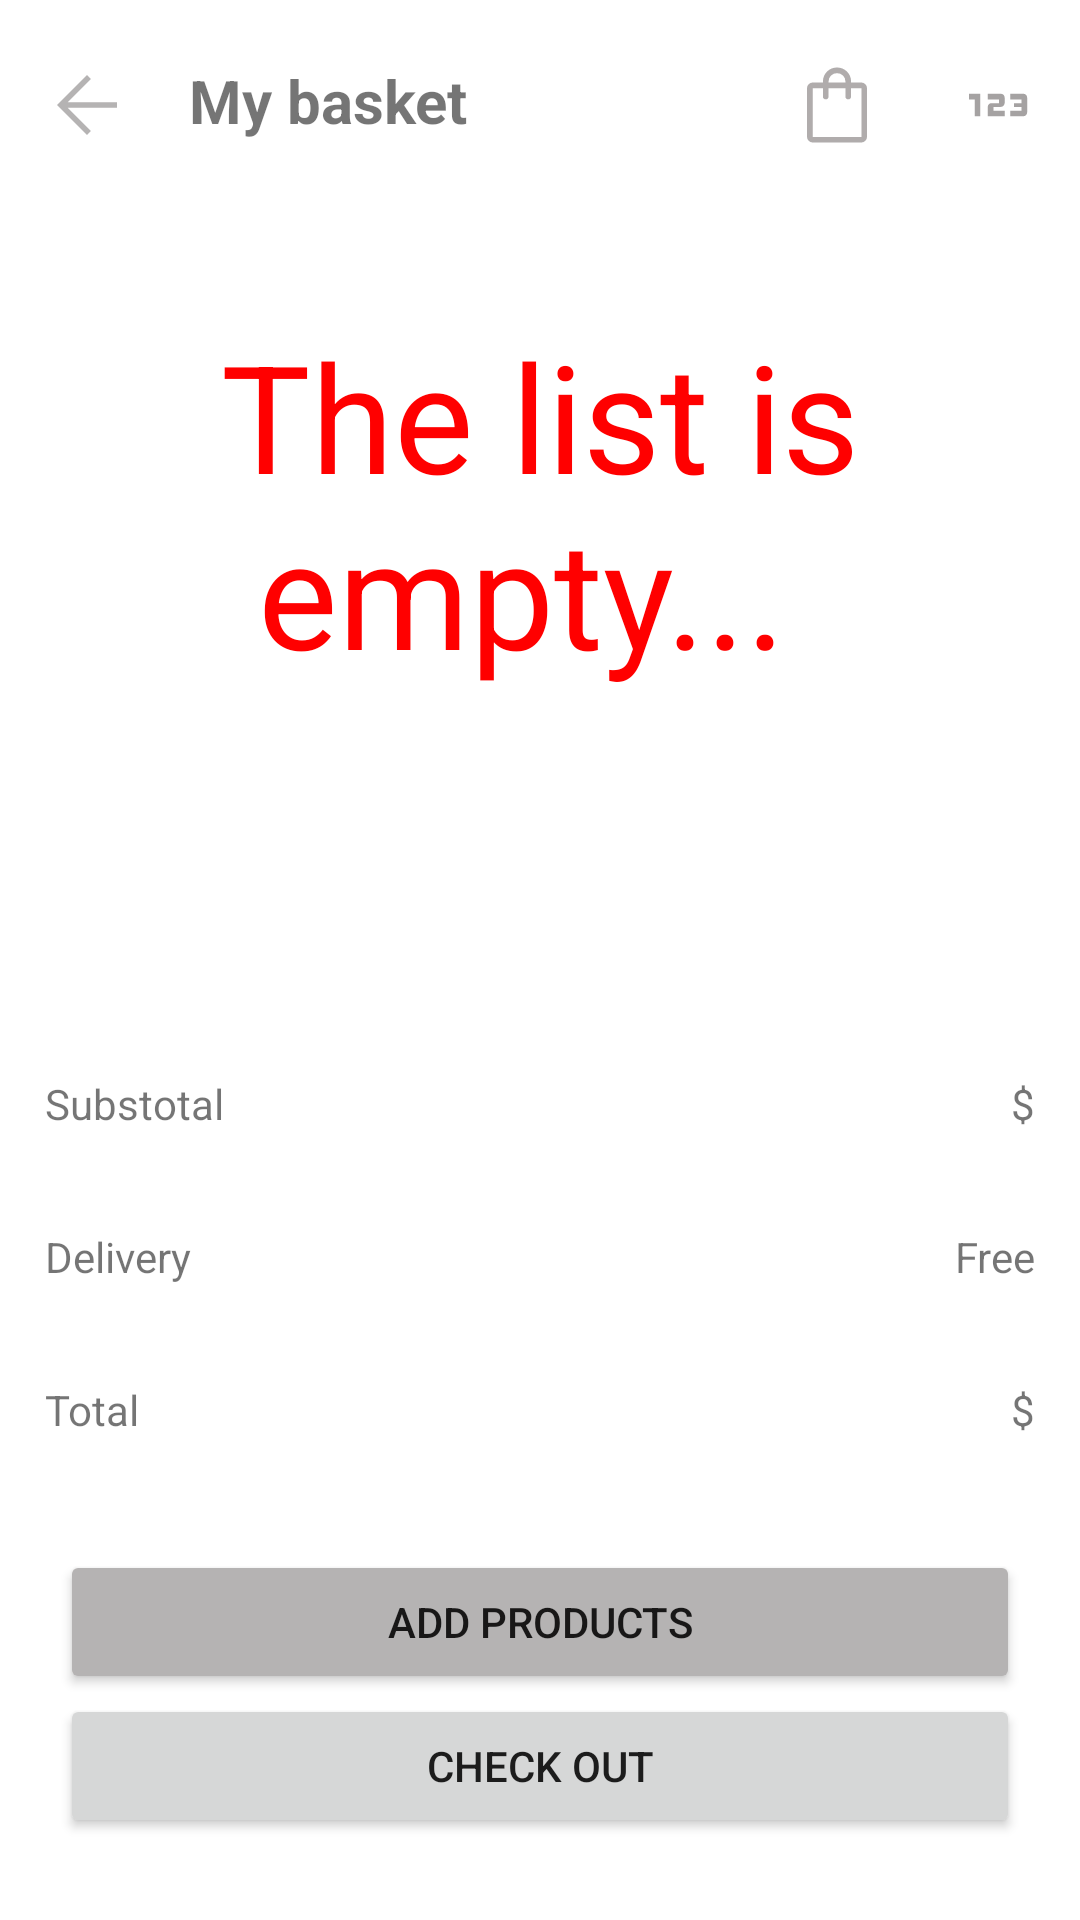

Screen size 1080 x 1920. Icon name, then its box in pixels as bbox(x1, y1, x2, y2):
arrow back: bbox(57, 75, 117, 135)
shopping bag: bbox(807, 67, 867, 143)
